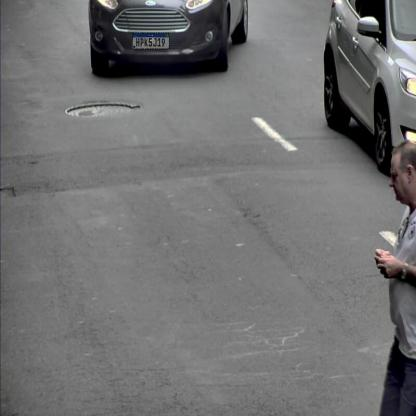PlacaM: (132, 33, 170, 49)
